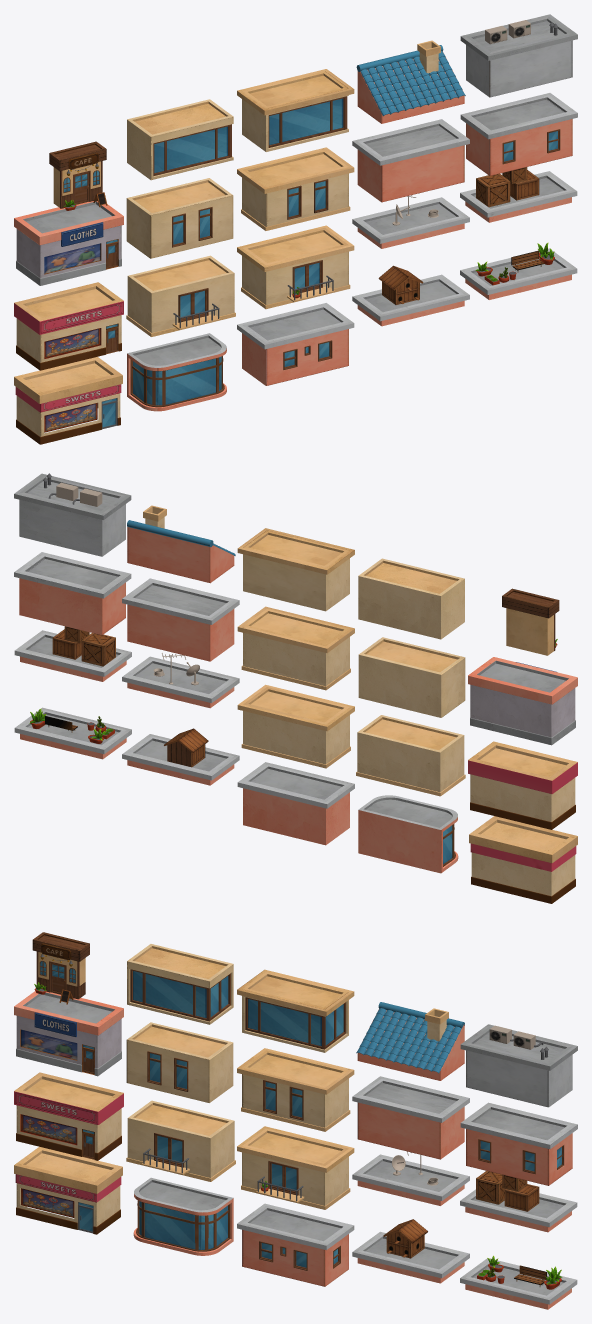
The picture shows the model from 3 angles, top to bottom: view 1: azimuth 30°, elevation 25°; view 2: azimuth 150°, elevation 25°; view 3: azimuth 330°, elevation 25°; orthographic projection.
Visible parts, largest first — view 1: Building.001, Building.013, Building.002, Cube.002_Plate, Cube.002_Plate.001, Cube.002_Plate.006, Cube.002_Plate.005, Cube.002_Plate.007, Cube.002_Plate.004, Cube.002_Plate.002, Cube, Cube.002_Plate.003 (+11 smaller); view 2: Building.001, Building.002, Building.013, Cube.002_Plate, Cube.002_Plate.001, Cube.002_Plate.006, Cube.002_Plate.004, Cube.002_Plate.005, Cube.002_Plate.007, Cube.002_Plate.002, Cube, Cube.002_Plate.003 (+11 smaller); view 3: Building.001, Building.013, Building.002, Cube.002_Plate, Cube.002_Plate.001, Cube.002_Plate.006, Cube.002_Plate.004, Cube.002_Plate.005, Cube.002_Plate.007, Cube.002_Plate.002, Cube, Cube.002_Plate.003 (+11 smaller).
Part boxes in pixels (left/top/right/bottom): Building.001: left=14, top=282, right=123, bottom=370; Building.013: left=14, top=357, right=122, bottom=444; Building.002: left=14, top=201, right=123, bottom=285; Cube.002_Plate: left=237, top=147, right=354, bottom=230; Cube.002_Plate.001: left=237, top=225, right=354, bottom=309; Cube.002_Plate.006: left=352, top=119, right=469, bottom=202; Cube.002_Plate.005: left=237, top=303, right=354, bottom=385; Cube.002_Plate.007: left=460, top=93, right=577, bottom=175; Cube.002_Plate.004: left=237, top=69, right=354, bottom=151; Cube.002_Plate.002: left=126, top=255, right=235, bottom=336; Cube: left=126, top=178, right=233, bottom=258; Cube.002_Plate.003: left=127, top=99, right=233, bottom=180; Building.001: left=468, top=741, right=577, bottom=829; Building.002: left=468, top=657, right=577, bottom=745; Building.013: left=469, top=816, right=577, bottom=903; Cube.002_Plate: left=237, top=606, right=354, bottom=690; Cube.002_Plate.001: left=237, top=684, right=354, bottom=768; Cube.002_Plate.006: left=122, top=578, right=239, bottom=661; Cube.002_Plate.004: left=237, top=528, right=354, bottom=611; Cube.002_Plate.005: left=237, top=762, right=354, bottom=845; Cube.002_Plate.007: left=14, top=552, right=131, bottom=635; Cube.002_Plate.002: left=356, top=715, right=465, bottom=796; Cube: left=358, top=637, right=465, bottom=717; Cube.002_Plate.003: left=358, top=558, right=464, bottom=639; Building.001: left=14, top=1072, right=123, bottom=1160; Building.013: left=14, top=1146, right=122, bottom=1234; Building.002: left=14, top=991, right=123, bottom=1076; Cube.002_Plate: left=237, top=1048, right=354, bottom=1131; Cube.002_Plate.001: left=237, top=1126, right=354, bottom=1209; Cube.002_Plate.006: left=352, top=1076, right=469, bottom=1159; Cube.002_Plate.004: left=237, top=969, right=354, bottom=1052; Cube.002_Plate.005: left=237, top=1203, right=354, bottom=1286; Cube.002_Plate.007: left=460, top=1102, right=577, bottom=1185; Cube.002_Plate.002: left=126, top=1100, right=235, bottom=1181; Cube: left=126, top=1022, right=233, bottom=1102; Cube.002_Plate.003: left=127, top=944, right=233, bottom=1024.
Bounding box in the file's own units: 25.92 × 13.38 × 2.85.
1 material, 1 textured.
